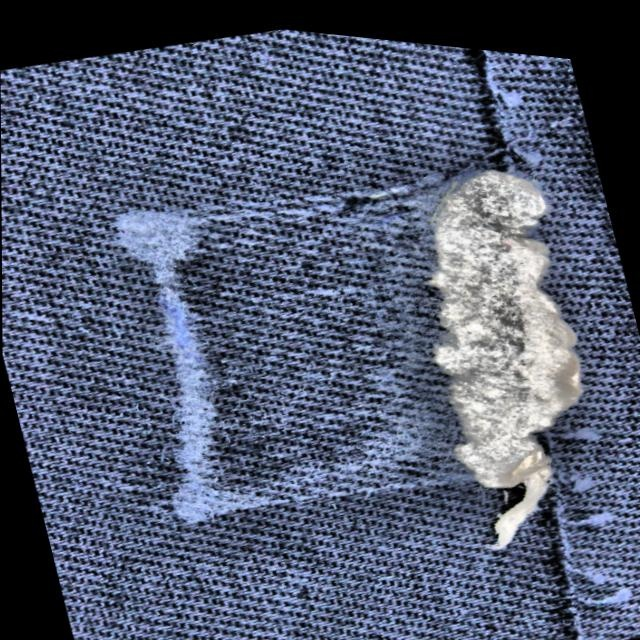Hole: (63, 84, 640, 620)
